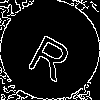R: (25, 25, 78, 83)
